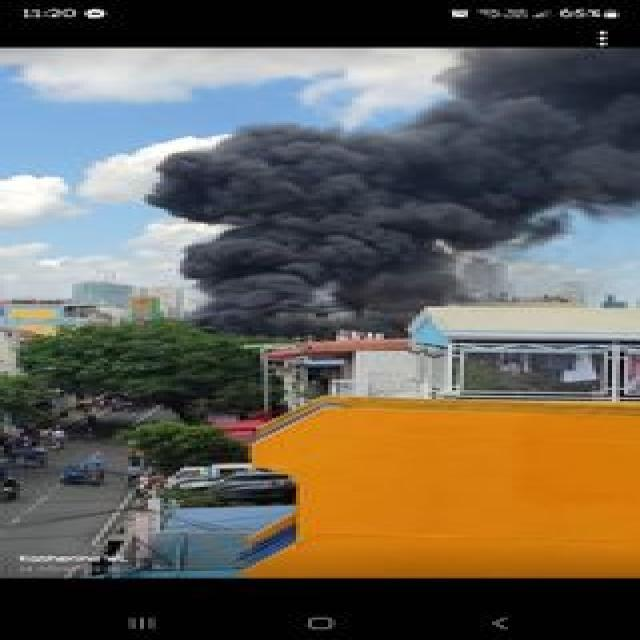Smoke: (193, 144, 424, 318)
